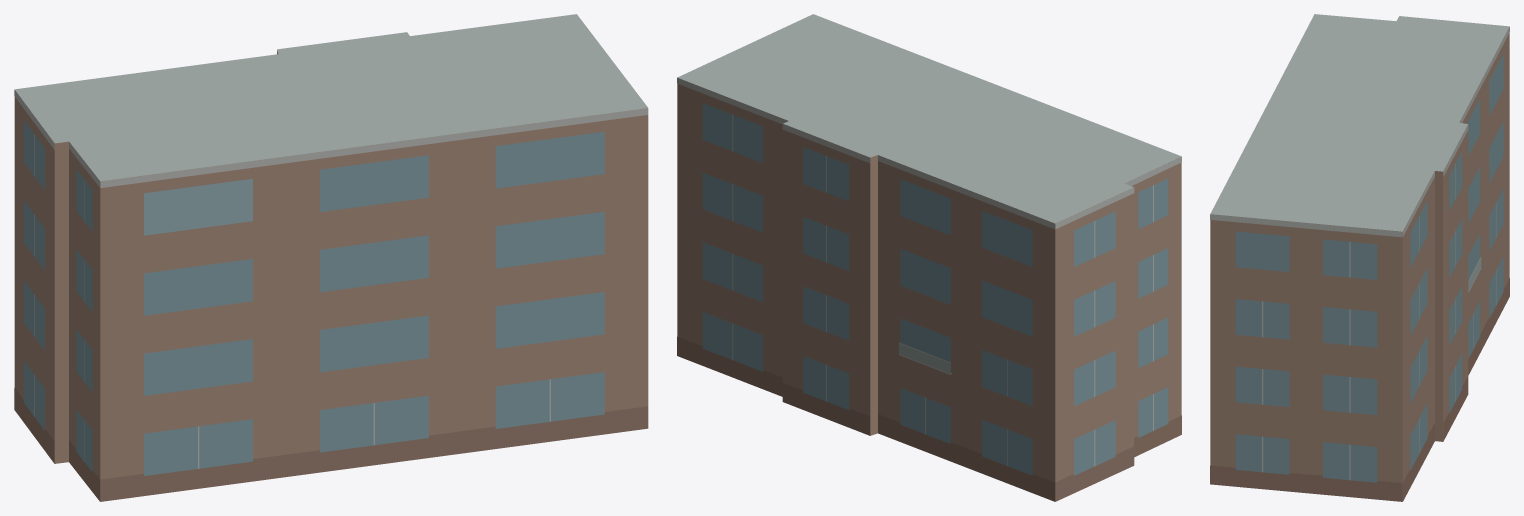
Rendered from survey-upis-32894242.glb.
3 renders of one model, left to right at view 1: azimuth 30°, elevation 25°; view 2: azimuth 150°, elevation 25°; view 3: azimuth 270°, elevation 25°, orthographic. The views are drawn at different scales.
Visible parts, largest first — view 1: survey-upis-32894242.tmp; view 2: survey-upis-32894242.tmp; view 3: survey-upis-32894242.tmp.
Boxes of the visible parts, x1,y1,x2,y2 form: survey-upis-32894242.tmp: [14, 14, 648, 501]; survey-upis-32894242.tmp: [677, 14, 1181, 501]; survey-upis-32894242.tmp: [1210, 14, 1509, 501].
Bounding box in the file's own units: 19.87 × 11.5 × 11.56.
